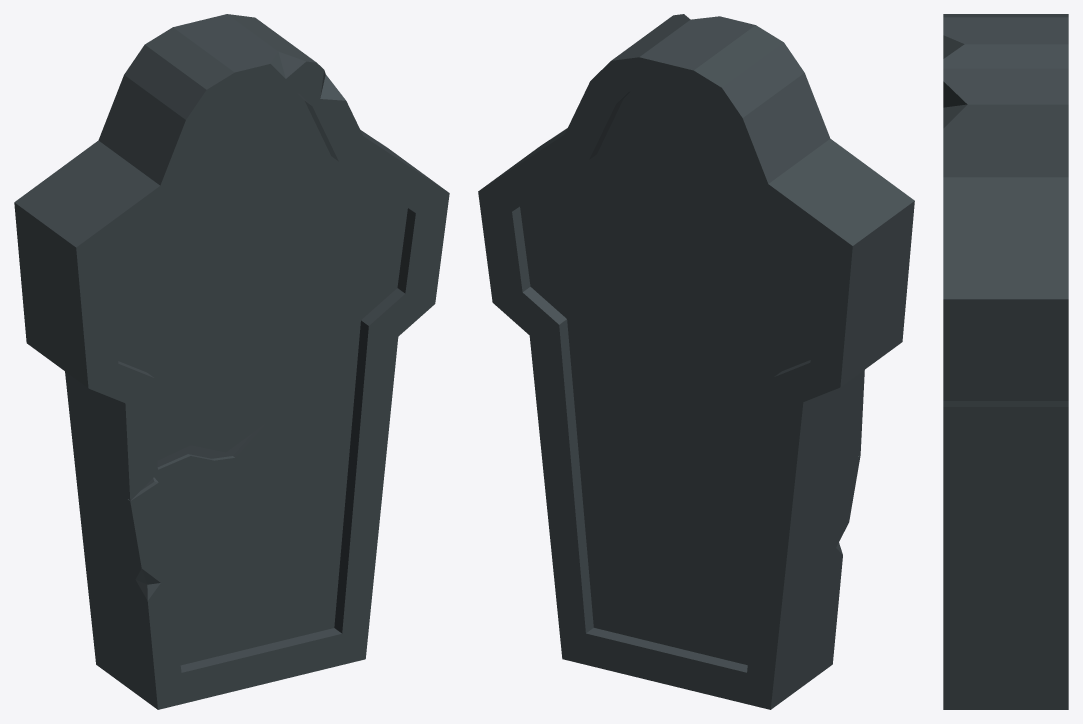
The model's file is tombstone_6.fbx.
The picture shows the model from 3 angles, left to right: view 1: azimuth 30°, elevation 25°; view 2: azimuth 150°, elevation 25°; view 3: azimuth 270°, elevation 25°; orthographic projection.
Visible parts, largest first — view 1: tombstone6; view 2: tombstone6; view 3: tombstone6.
Boxes of the visible parts, left/top/right/bottom form: tombstone6: left=14, top=14, right=449, bottom=709; tombstone6: left=478, top=14, right=914, bottom=709; tombstone6: left=943, top=14, right=1068, bottom=709.
Bounding box in the file's own units: 0.7186 × 1.14 × 0.2063.
